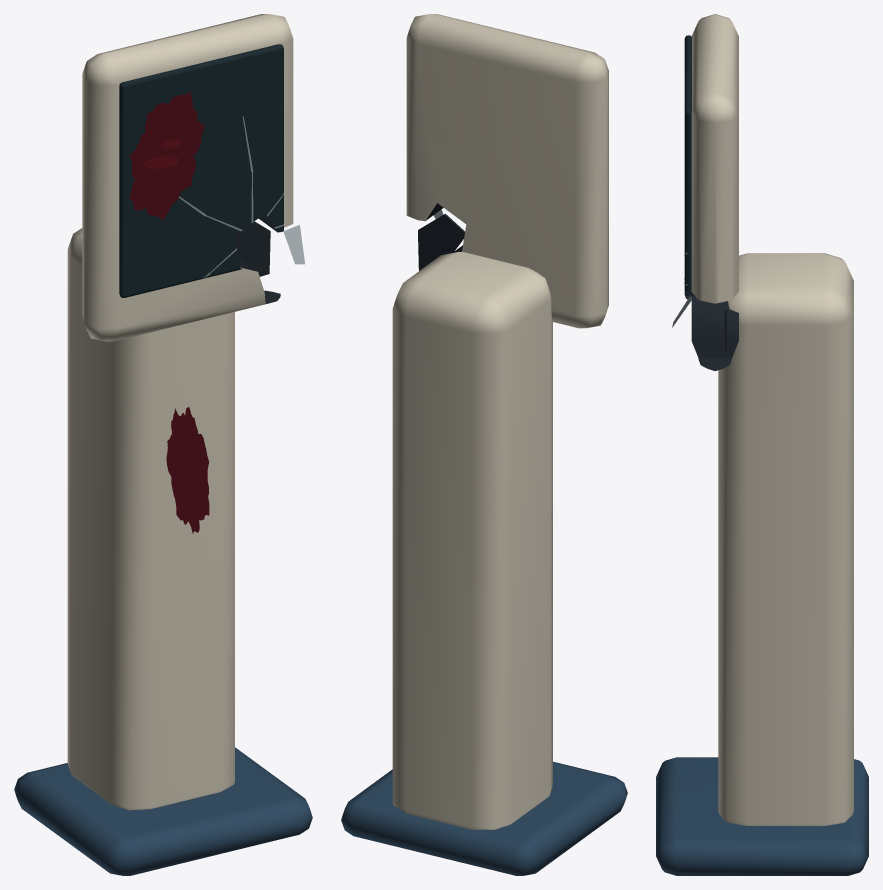
File: check_in_kiosk.glb
3 renders of one model, left to right at view 1: azimuth 30°, elevation 25°; view 2: azimuth 150°, elevation 25°; view 3: azimuth 270°, elevation 25°, orthographic. The views are drawn at different scales.
Visible parts, largest first — view 1: check_in_kiosk_Outbreak_Static; view 2: check_in_kiosk_Outbreak_Static; view 3: check_in_kiosk_Outbreak_Static.
Boxes of the visible parts, x1=… form: check_in_kiosk_Outbreak_Static: x1=14, y1=14, x2=312, y2=875; check_in_kiosk_Outbreak_Static: x1=341, y1=14, x2=627, y2=875; check_in_kiosk_Outbreak_Static: x1=656, y1=14, x2=868, y2=875.
Size of the model in its own units: 0.39 by 1.46 by 0.36.
